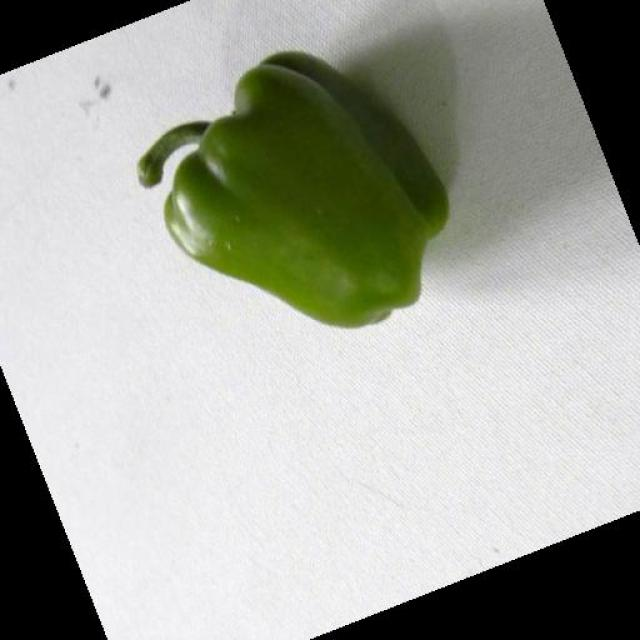Fresh_Capsicum: (157, 73, 443, 310)
